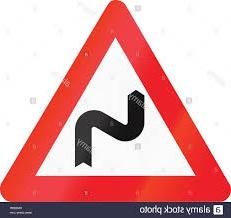double_bend_right: (0, 0, 230, 204)
